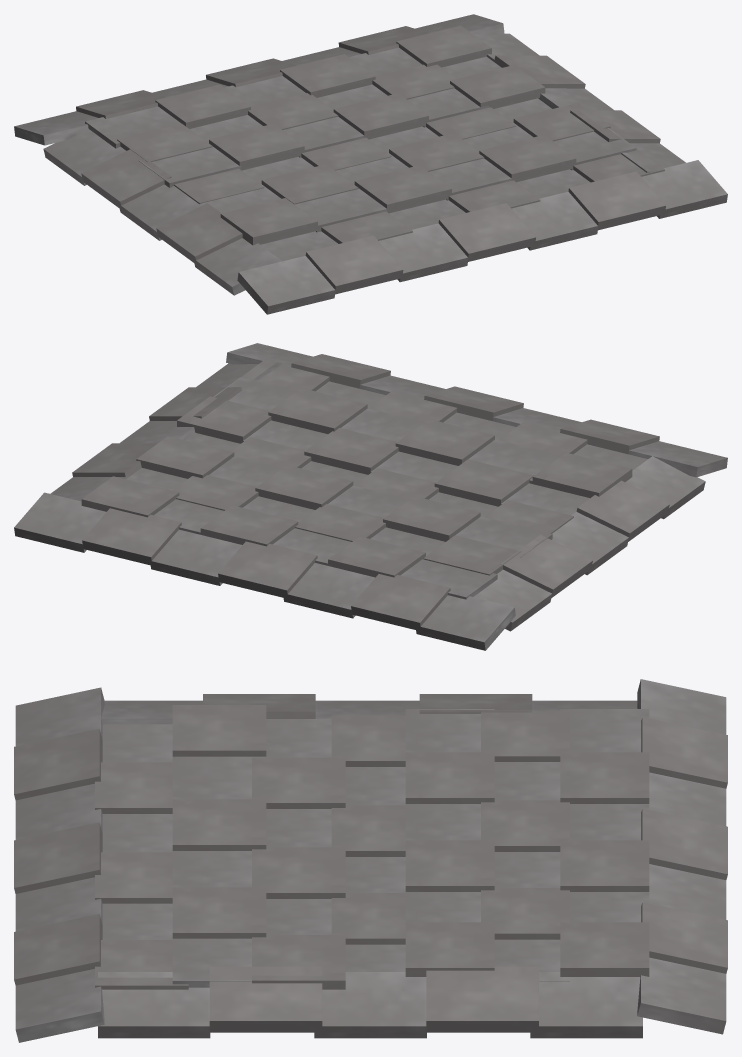
Rendered from deck2.fbx.
The picture shows the model from 3 angles, top to bottom: view 1: azimuth 30°, elevation 25°; view 2: azimuth 150°, elevation 25°; view 3: azimuth 270°, elevation 25°; orthographic projection. The views are drawn at different scales.
Parts seen in each view (by area): view 1: polySurface1308; view 2: polySurface1308; view 3: polySurface1308.
Part boxes in pixels (bbox=[...]): polySurface1308: bbox=[14, 14, 727, 314]; polySurface1308: bbox=[14, 343, 727, 650]; polySurface1308: bbox=[14, 679, 727, 1042].
Size of the model in its own units: 2.02 by 0.1191 by 1.85.
